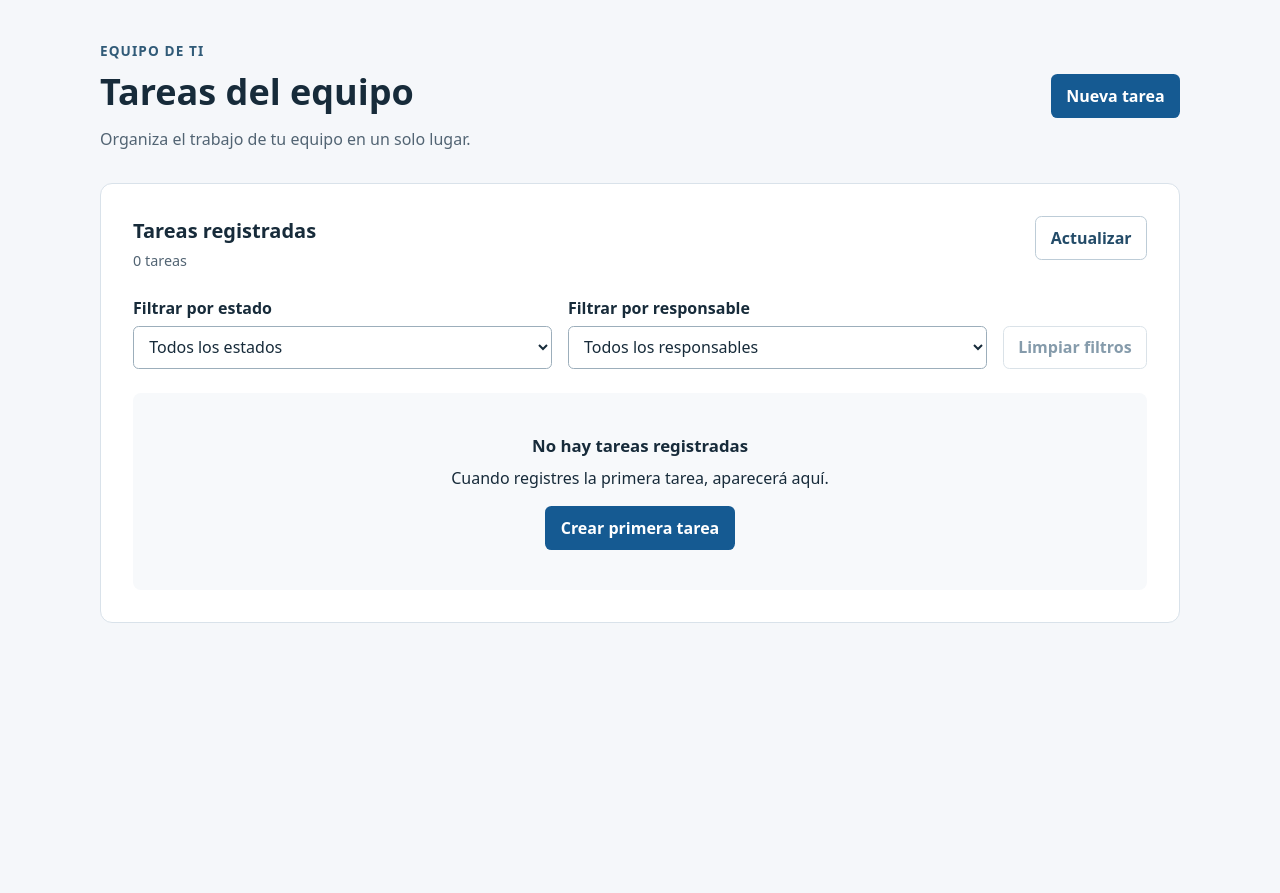
Test: Selector de responsables registrados › cancela al cerrar y no sustituye el catálogo nuevo con una respuesta tardía del anterior
Check: the text "0 tareas" is shown, box [133,251,187,270]
Click the button "Nueva tarea". click: (1116, 96)
box: [1051,74,1180,118]
(page scrolled)
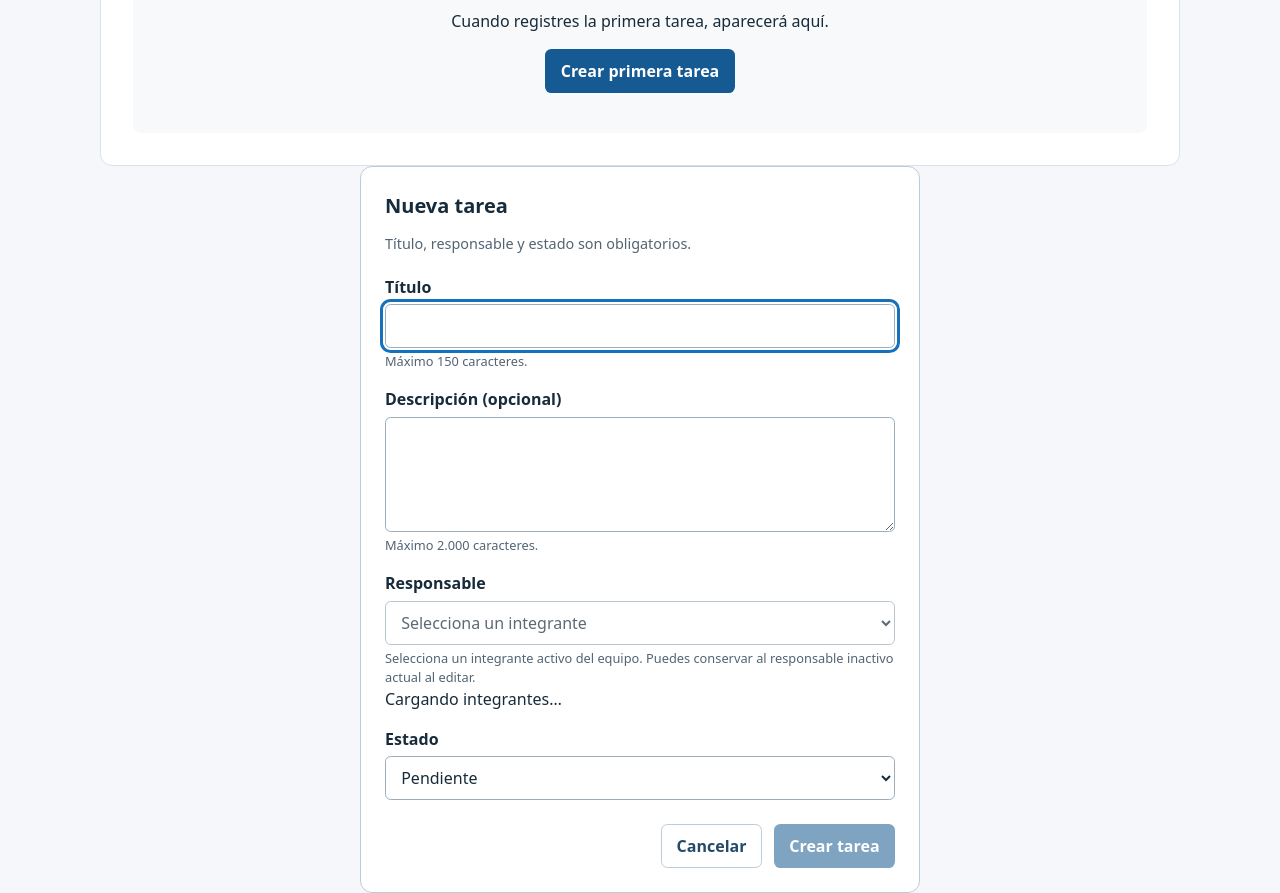
Check: the text "Cargando integrantes…" is shown, box [385,688,562,710]
Click the button "Cancelar". click: (712, 846)
box: [661,824,762,868]
(page scrolled)
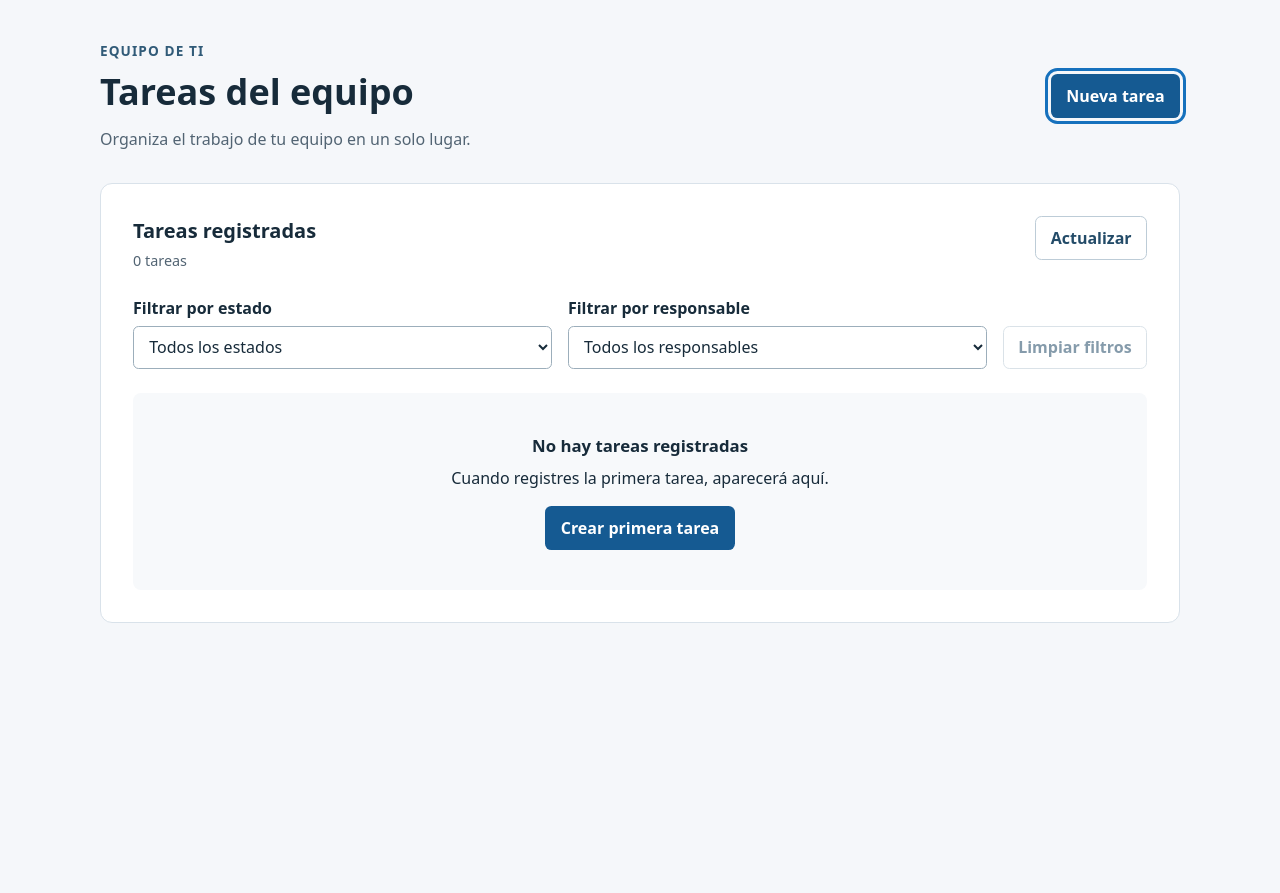
Check: the dialog is gone
Click the button "Nueva tarea". click: (1116, 96)
box: [1051,74,1180,118]
(page scrolled)
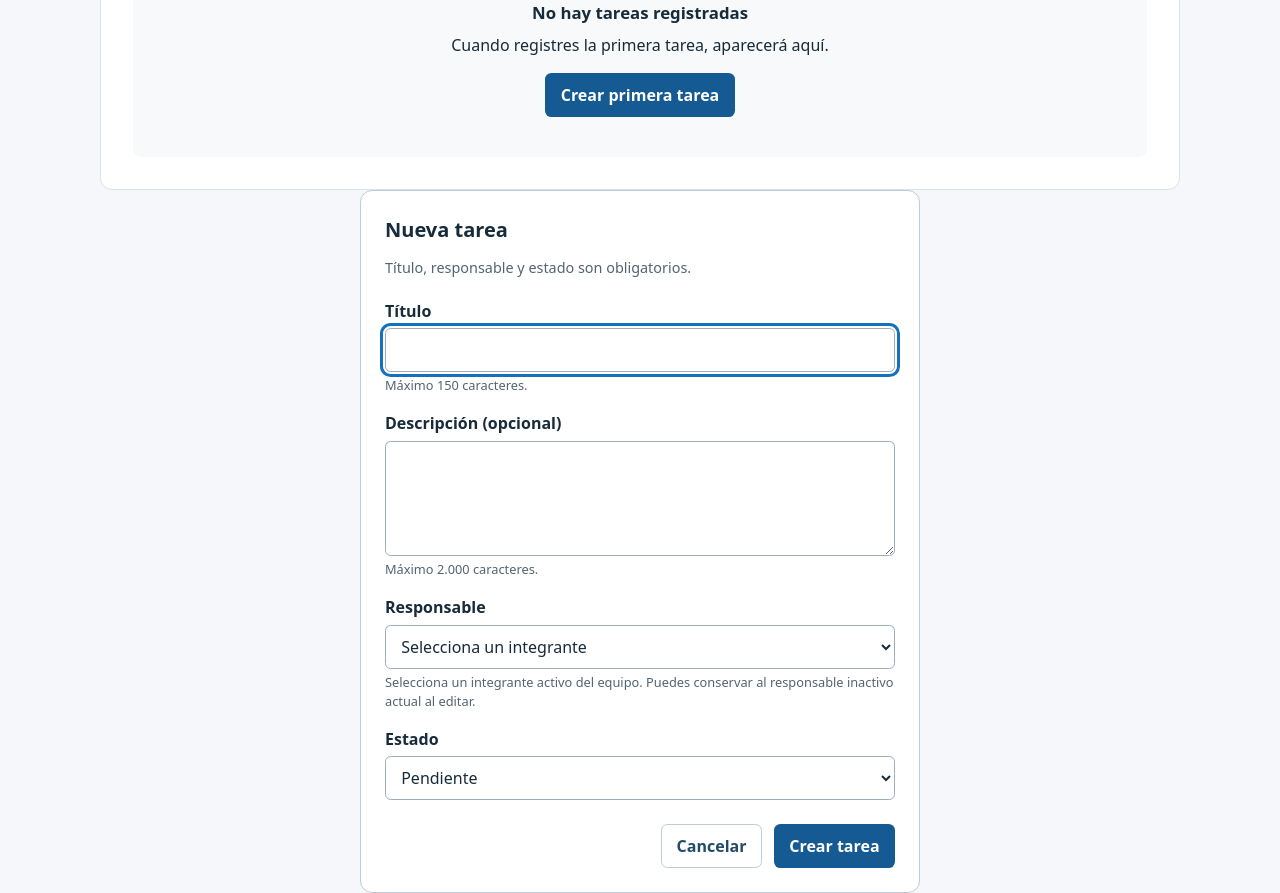
Check: the dropdown labelled "Responsable" shows "Selecciona un integrante", box [385,625,895,668]
